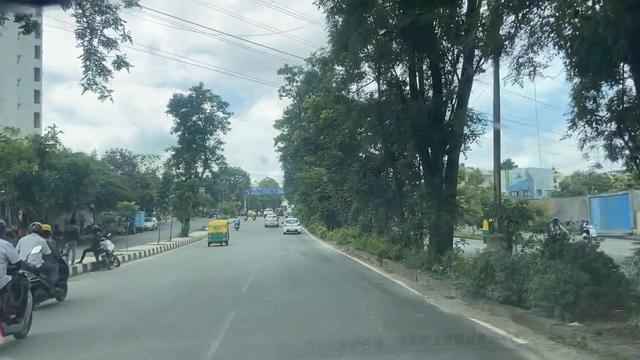LMV: (207, 218, 232, 247), (283, 215, 298, 238), (263, 213, 278, 228)
